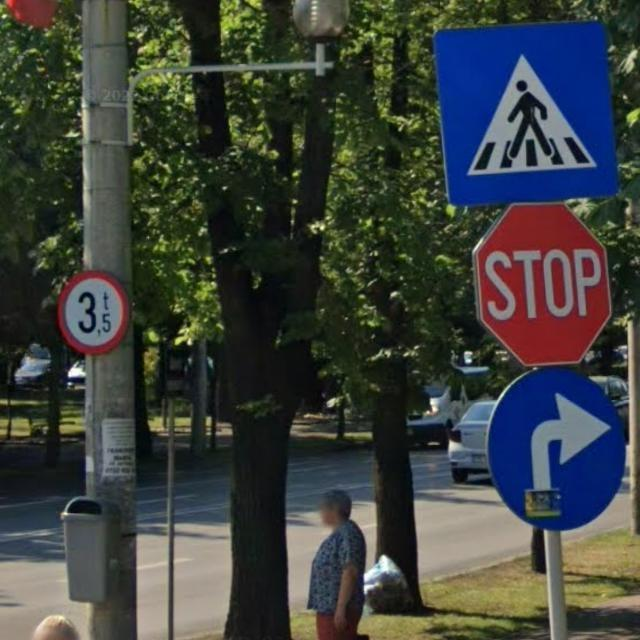info_crosswalk: (427, 27, 623, 201)
prio_stop: (475, 202, 619, 369)
